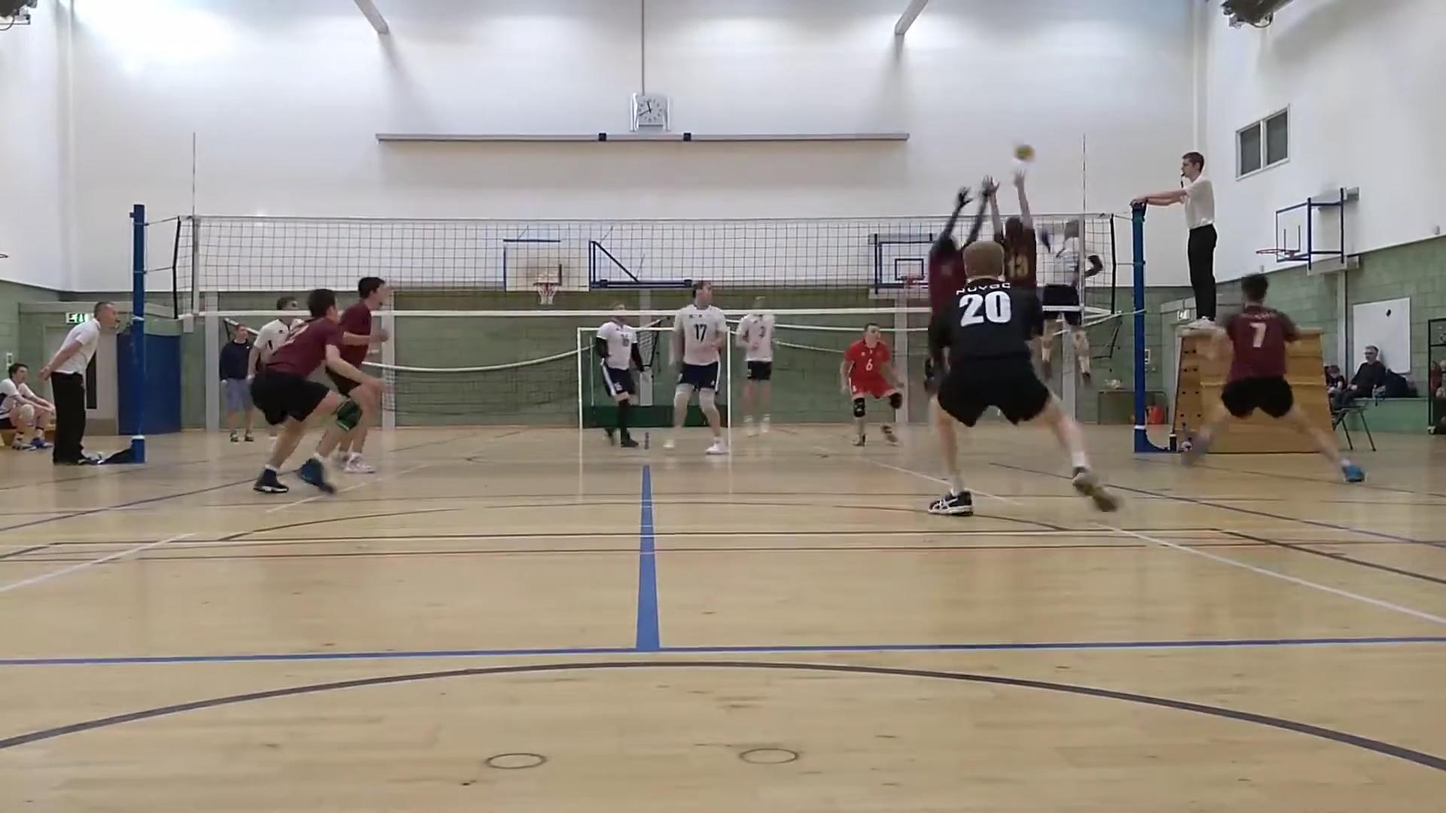attacco: (1032, 199, 1107, 393)
muro: (988, 170, 1049, 377), (914, 166, 988, 306)
